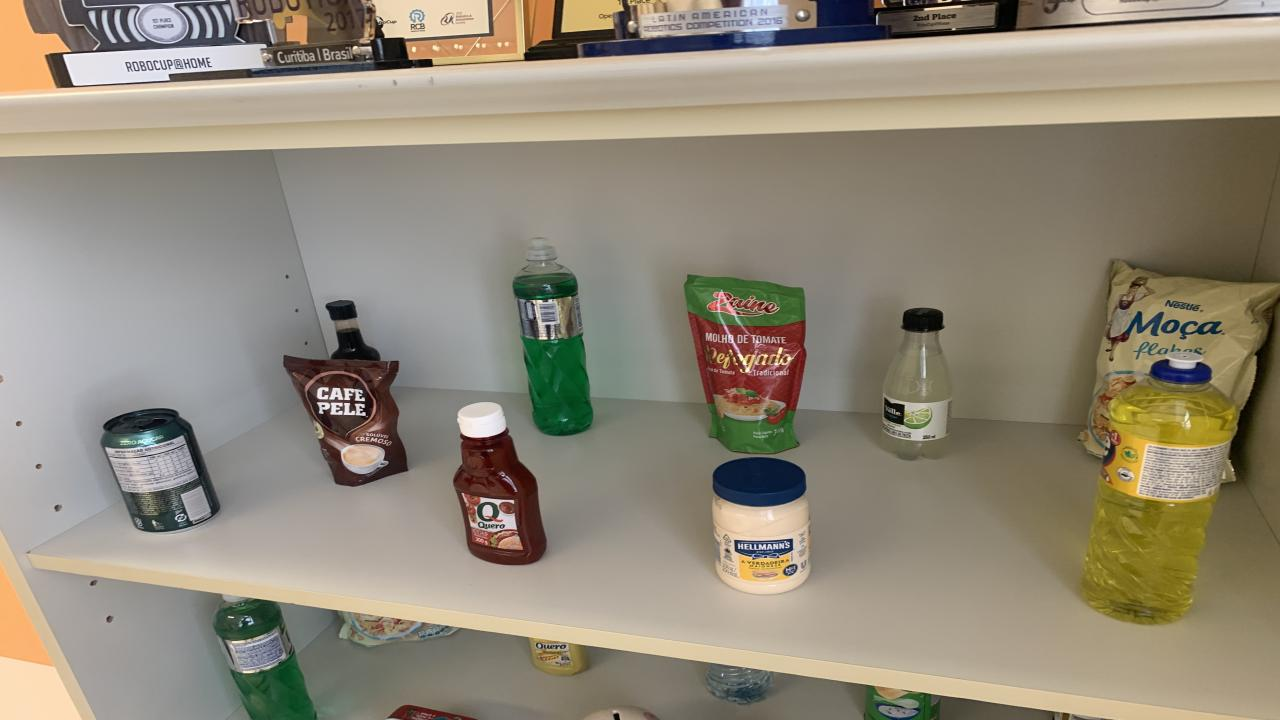Coffee-Pantry_Items: (282, 356, 408, 486)
Detergent-Cleanup_Items: (1080, 352, 1238, 624), (512, 238, 592, 435), (212, 594, 315, 720)
English_Sauce-Pantry_Items: (325, 300, 380, 360), (272, 684, 278, 691)
Flakes-Snacks: (1080, 261, 1280, 456), (340, 611, 458, 647)
Guarana_Can-Drinks: (100, 409, 220, 532)
Ketchup-Pantry_Items: (452, 401, 545, 564)
Mayonnaise-Pantry_Items: (712, 458, 810, 594)
Mustard-Pantry_Items: (530, 638, 590, 675)
Pig_Safe-Miscellaneous: (582, 707, 660, 720)
Pringles-Snacks: (865, 686, 940, 720)
Soda-Drinks: (880, 308, 952, 459)
Tomato_Sauce-Pantry_Items: (685, 276, 808, 454)
Tuna_Can-Pantry_Items: (388, 705, 475, 720)
Water_Bottle-Drinks: (705, 664, 775, 705)
